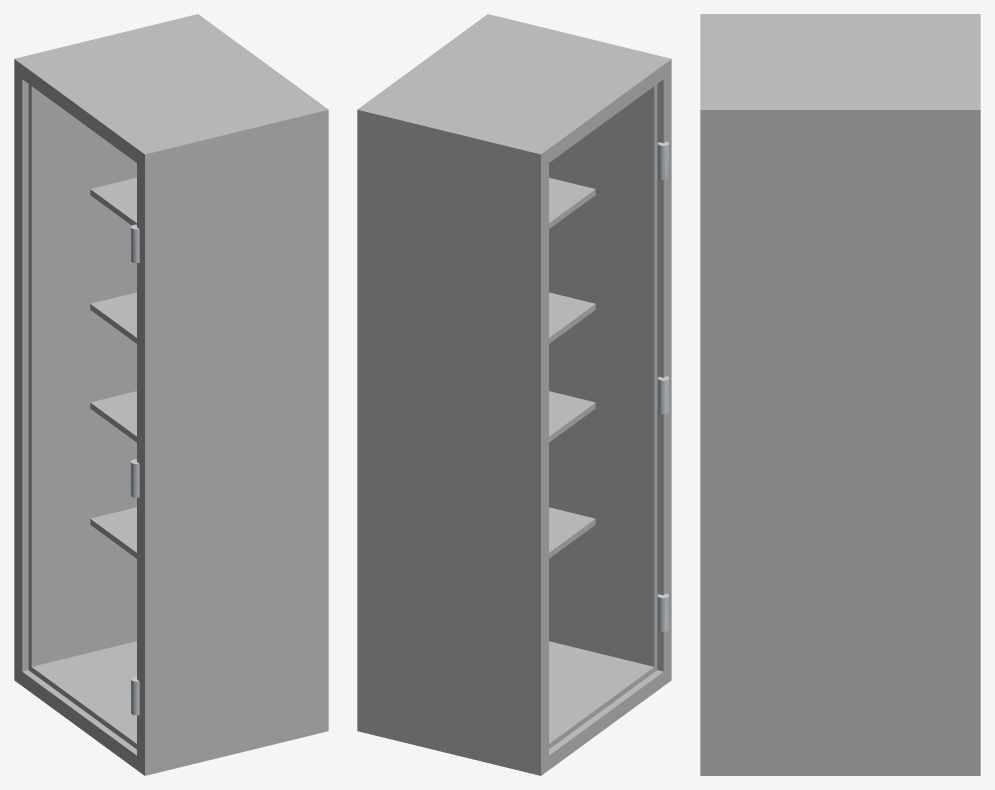
The model's file is SM_CabinetSingleFrame.fbx.
The picture shows the model from 3 angles, left to right: view 1: azimuth 30°, elevation 25°; view 2: azimuth 150°, elevation 25°; view 3: azimuth 270°, elevation 25°; orthographic projection. The views are drawn at different scales.
Visible parts, largest first — view 1: SM_CabinetSingleFrame_LOD0; view 2: SM_CabinetSingleFrame_LOD0; view 3: SM_CabinetSingleFrame_LOD0.
Boxes of the visible parts, box(x1,y1,x2,y2) form: SM_CabinetSingleFrame_LOD0: box(14, 14, 328, 775); SM_CabinetSingleFrame_LOD0: box(357, 14, 671, 775); SM_CabinetSingleFrame_LOD0: box(700, 14, 980, 775).
Bounding box in the file's own units: 98.36 × 118 × 309.
